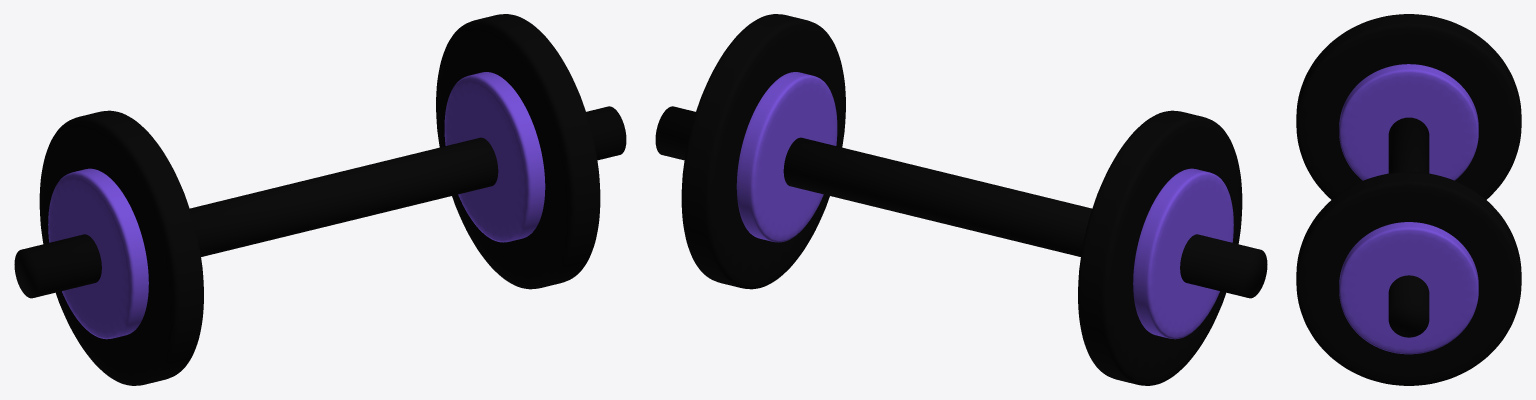
File: pesa_lila.glb
The picture shows the model from 3 angles, left to right: view 1: azimuth 30°, elevation 25°; view 2: azimuth 150°, elevation 25°; view 3: azimuth 270°, elevation 25°; orthographic projection. The views are drawn at different scales.
Parts seen in each view (by area): view 1: Circle, Circle.003, Cylinder, Circle.004, Circle.001; view 2: Circle, Circle.003, Cylinder, Circle.004, Circle.001; view 3: Circle.003, Circle, Circle.005, Circle.002, Cylinder.
Boxes of the visible parts, <box> form: Circle: <box>39,110,203,385</box>; Circle.003: <box>436,14,600,289</box>; Cylinder: <box>14,106,626,298</box>; Circle.004: <box>444,72,545,242</box>; Circle.001: <box>48,168,148,339</box>; Circle: <box>1078,110,1242,385</box>; Circle.003: <box>681,14,845,289</box>; Cylinder: <box>655,106,1267,298</box>; Circle.004: <box>736,72,837,242</box>; Circle.001: <box>1133,168,1233,339</box>; Circle.003: <box>1296,172,1521,385</box>; Circle: <box>1296,14,1521,199</box>; Circle.005: <box>1339,222,1478,354</box>; Circle.002: <box>1339,64,1478,180</box>; Cylinder: <box>1388,117,1429,337</box>.
Size of the model in its own units: 8.13 by 3.31 by 3.31.
